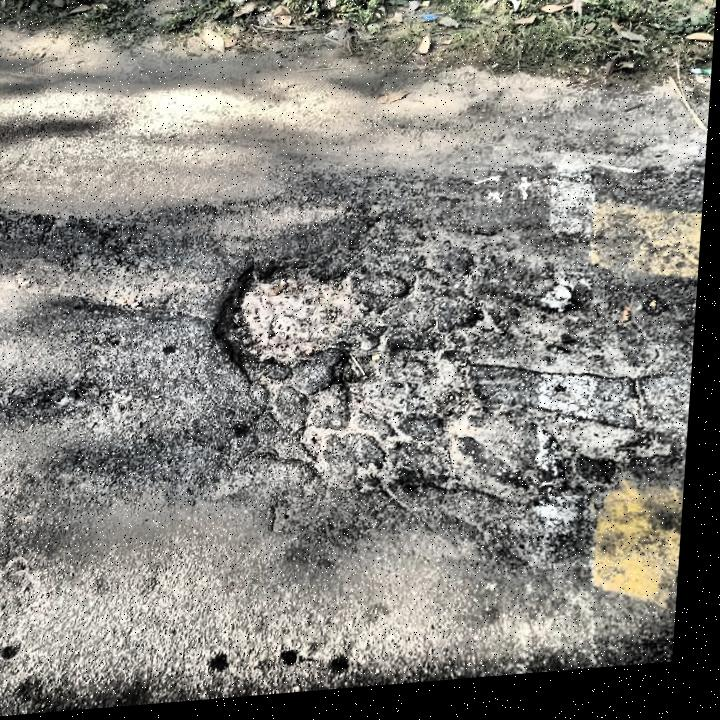pothole: (208, 256, 379, 379), (332, 344, 493, 440)
